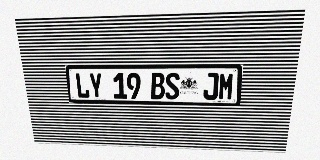1: (112, 73, 127, 99)
9: (126, 73, 141, 99)
B: (150, 73, 165, 99)
J: (203, 73, 219, 100)
L: (75, 73, 90, 98)
M: (218, 73, 235, 100)
S: (165, 73, 180, 99)
Y: (88, 73, 103, 98)
